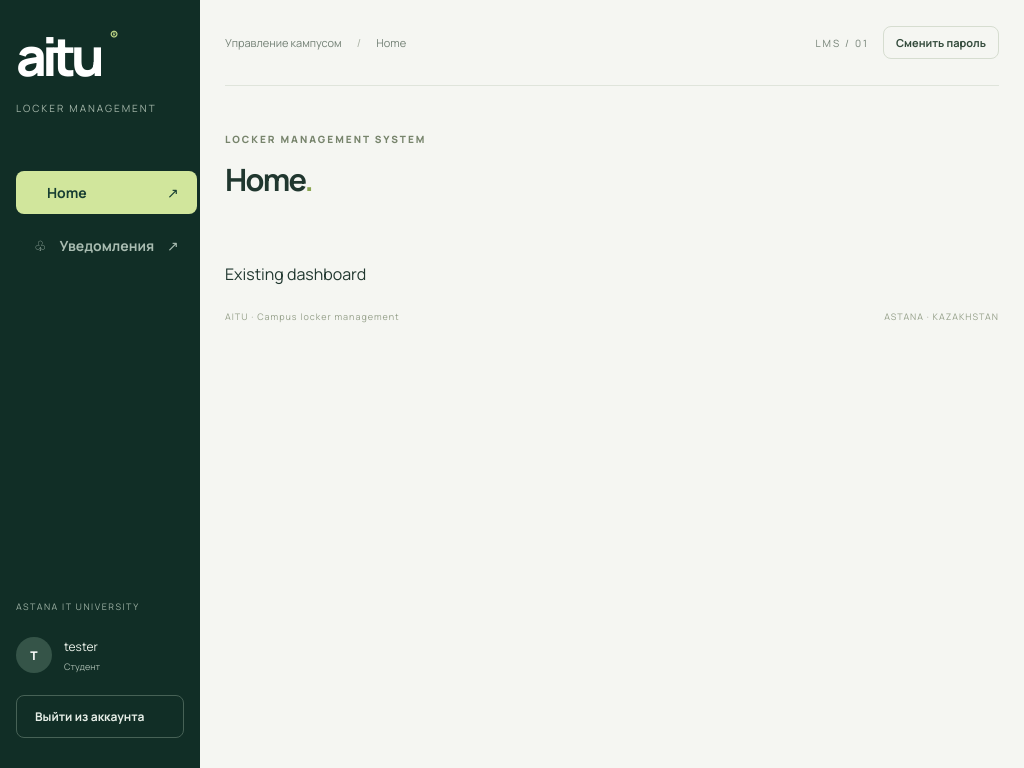
Test: role navigation › exposes notifications but no administrative screens to student
Click the button "♧ Уведомления ↗".
click(106, 246)  # box [16,224,197,267]
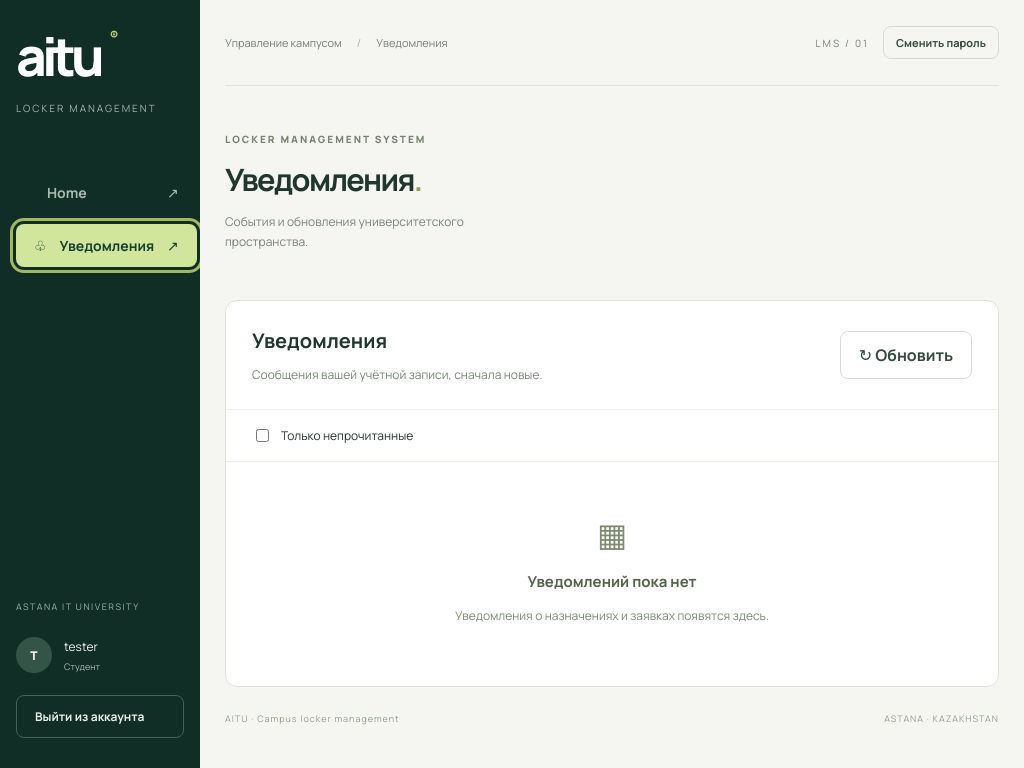
Expected: the heading "Уведомлений пока нет" is shown, [528,571,696,592]
Click the button "Home ↗".
click(106, 192)  # box [16,171,197,214]
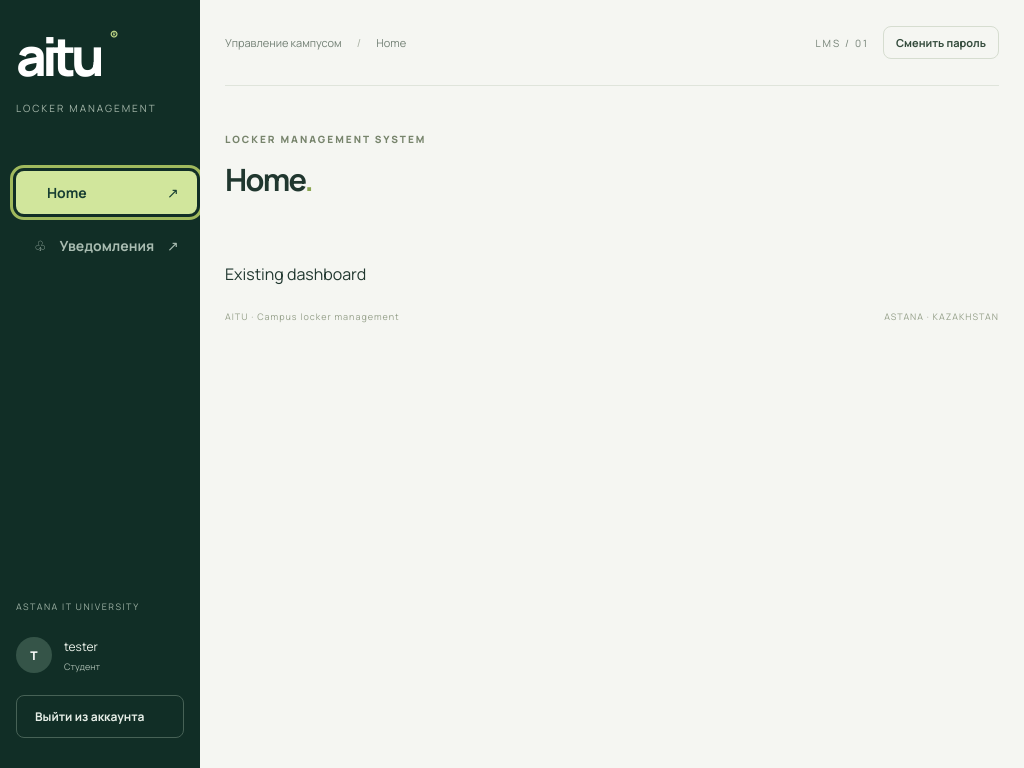
Expected: the text "Existing dashboard" is shown, [225,263,366,285]
